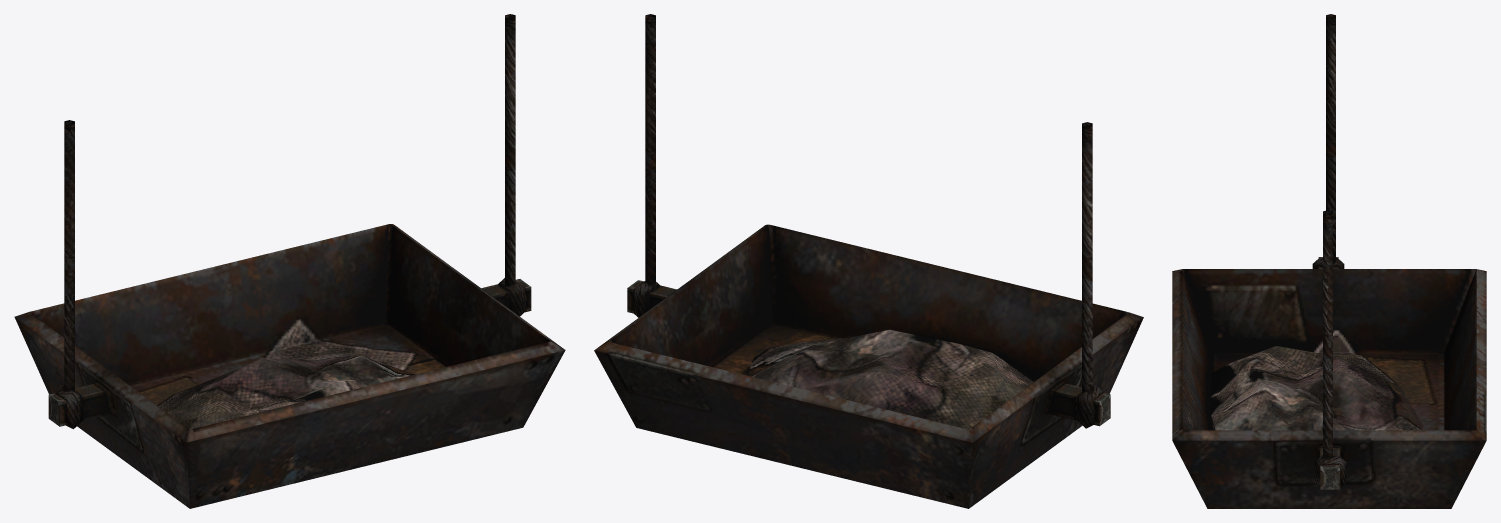
Rendered from cradle.dae.
3 renders of one model, left to right at view 1: azimuth 30°, elevation 25°; view 2: azimuth 150°, elevation 25°; view 3: azimuth 270°, elevation 25°, orthographic. The views are drawn at different scales.
Parts seen in each view (by area): view 1: cradle; view 2: cradle; view 3: cradle.
Boxes of the visible parts, x1=… form: cradle: x1=14, y1=14, x2=565, y2=508; cradle: x1=594, y1=14, x2=1143, y2=508; cradle: x1=1172, y1=14, x2=1486, y2=508.
Bounding box in the file's own units: 0.8272 × 0.5856 × 0.5216.
1 material, 1 textured.
